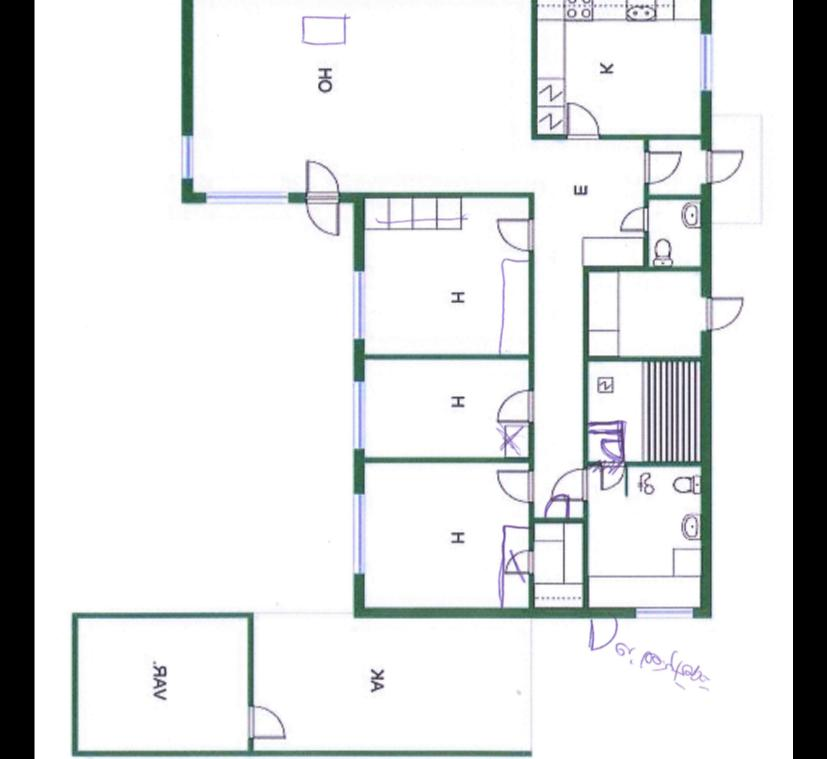door: (298, 192, 344, 244), (300, 150, 341, 202), (698, 291, 746, 333), (698, 148, 752, 184), (560, 100, 603, 144), (490, 217, 542, 253), (548, 466, 593, 504), (494, 468, 536, 508), (641, 148, 685, 186), (244, 704, 286, 742), (496, 387, 536, 425), (538, 493, 574, 526), (598, 460, 630, 494), (616, 202, 646, 233), (599, 436, 625, 460)
window: (350, 480, 368, 580), (348, 263, 368, 350), (199, 189, 298, 206), (695, 27, 716, 101), (350, 374, 368, 456), (174, 126, 196, 188), (630, 604, 702, 622)
